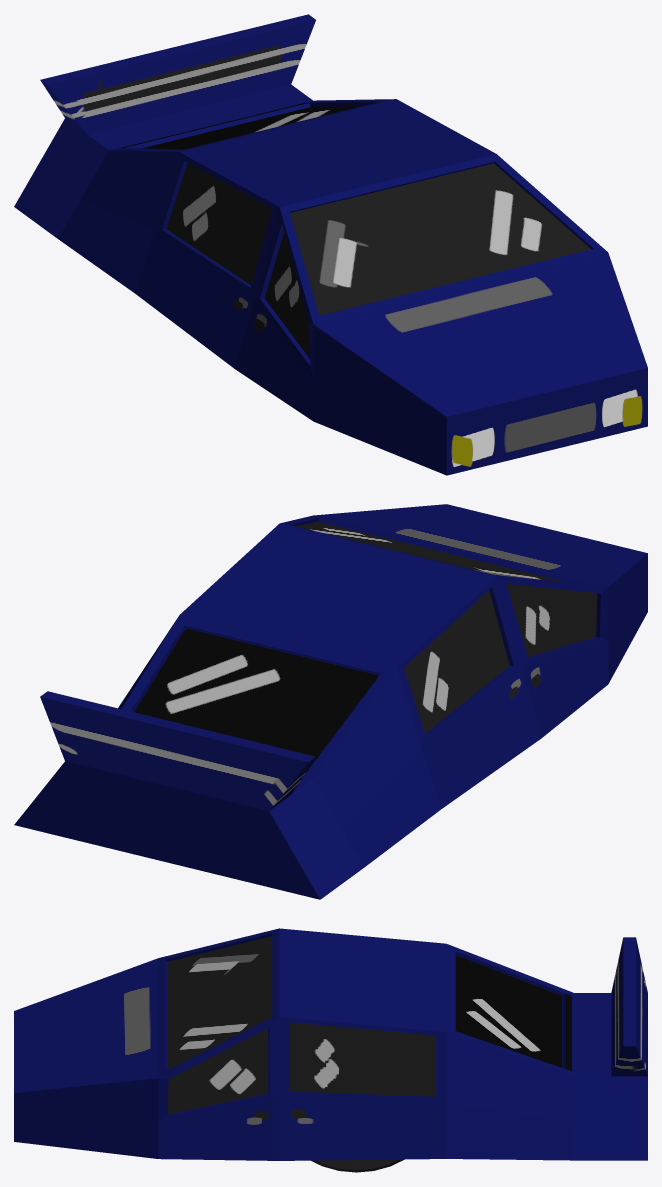
File: sportscar.glb
3 renders of one model, top to bottom at view 1: azimuth 30°, elevation 25°; view 2: azimuth 150°, elevation 25°; view 3: azimuth 270°, elevation 25°, orthographic. The views are drawn at different scales.
Parts seen in each view (by area): view 1: sportscar; view 2: sportscar; view 3: sportscar, wheel.002.
Boxes of the visible parts, x1=… form: sportscar: x1=14, y1=14, x2=647, y2=475; sportscar: x1=14, y1=504, x2=647, y2=899; sportscar: x1=14, y1=928, x2=647, y2=1160; wheel.002: x1=311, y1=1159, x2=404, y2=1172.
Size of the model in its own units: 2 by 1.31 by 4.3.
3 materials, 1 textured.
